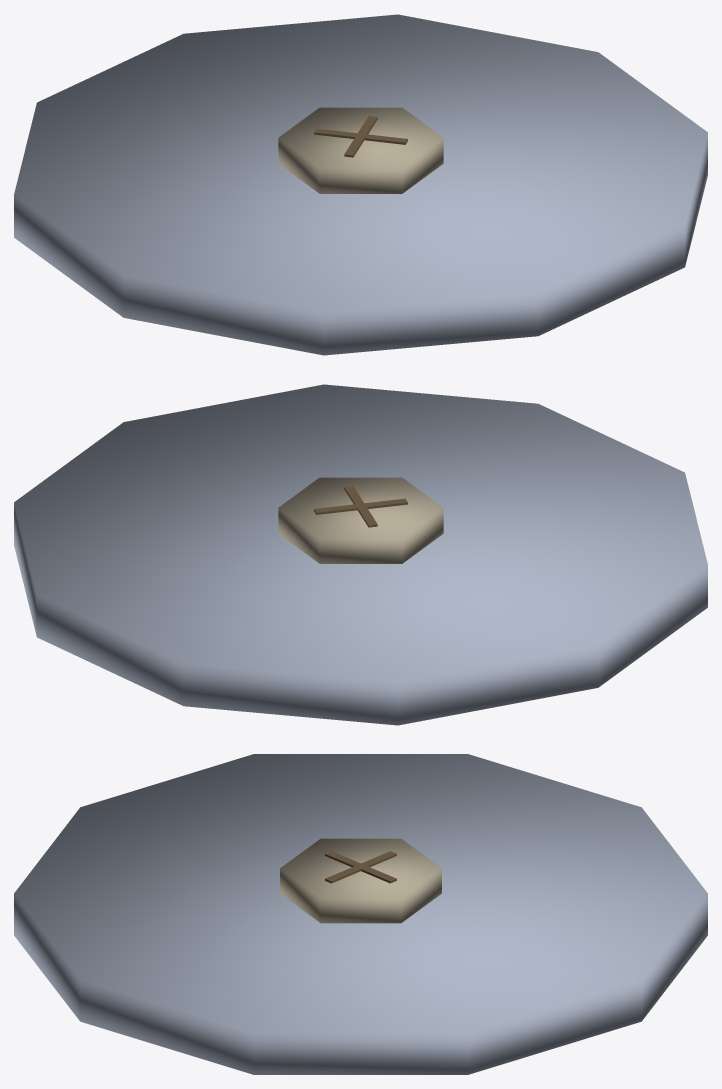
The model's file is bone_token.glb.
The picture shows the model from 3 angles, top to bottom: view 1: azimuth 30°, elevation 25°; view 2: azimuth 150°, elevation 25°; view 3: azimuth 270°, elevation 25°; orthographic projection. The views are drawn at different scales.
Parts seen in each view (by area): view 1: bone_token; view 2: bone_token; view 3: bone_token.
Boxes of the visible parts, bbox=[...] form: bone_token: bbox=[14, 14, 707, 355]; bone_token: bbox=[14, 384, 707, 725]; bone_token: bbox=[14, 754, 707, 1074].
Bounding box in the file's own units: 0.2853 × 0.033 × 0.3.
